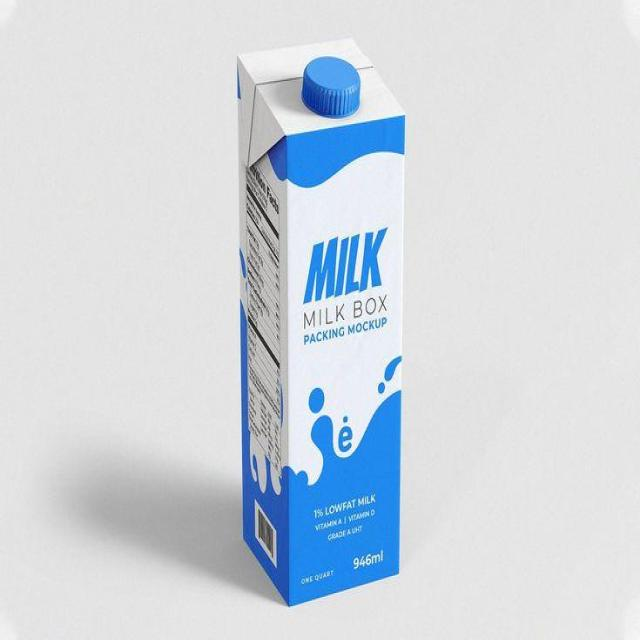drink carton: (234, 38, 402, 607)
